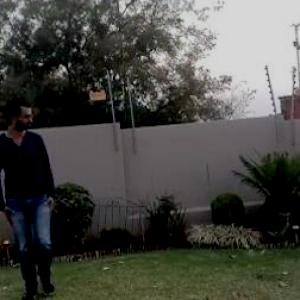follow: (1, 93, 60, 299)
